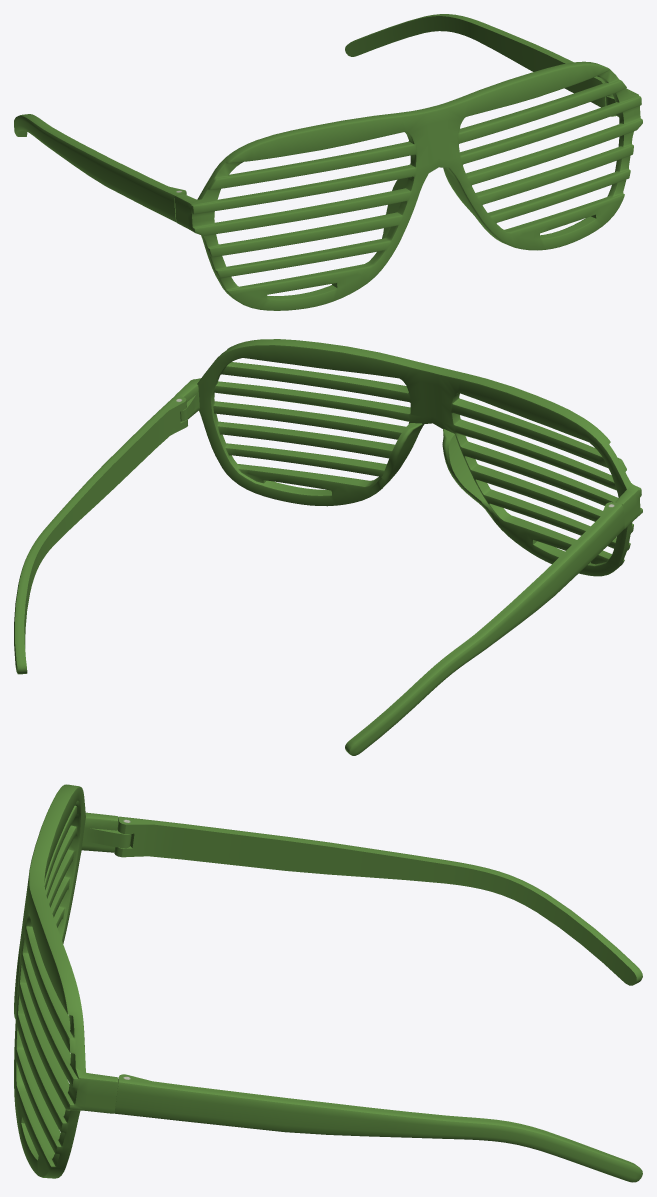
File: SM_Glasses_10.FBX
3 renders of one model, top to bottom at view 1: azimuth 30°, elevation 25°; view 2: azimuth 150°, elevation 25°; view 3: azimuth 270°, elevation 25°, orthographic. The views are drawn at different scales.
Visible parts, largest first — view 1: SM_Glasses_10; view 2: SM_Glasses_10; view 3: SM_Glasses_10.
Part boxes in pixels (bbox=[...]): SM_Glasses_10: bbox=[14, 14, 642, 310]; SM_Glasses_10: bbox=[14, 339, 642, 755]; SM_Glasses_10: bbox=[14, 784, 642, 1182].
Bounding box in the file's own units: 13.75 × 4.99 × 13.88.
